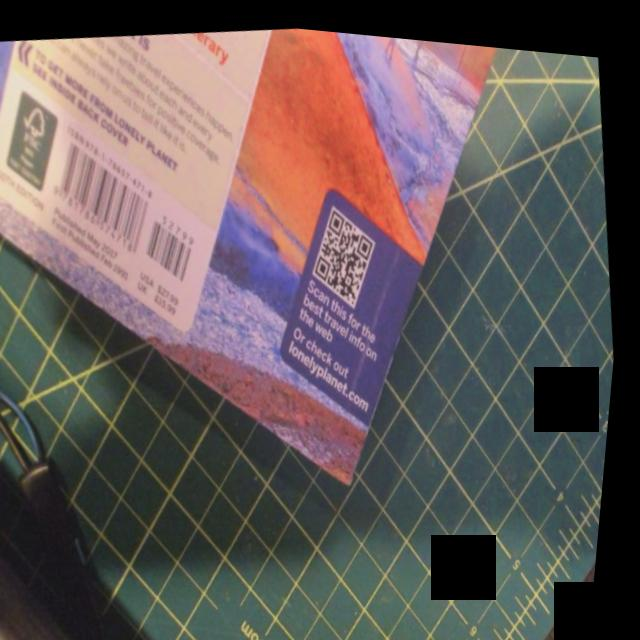QR_CODE: (296, 183, 399, 319)
